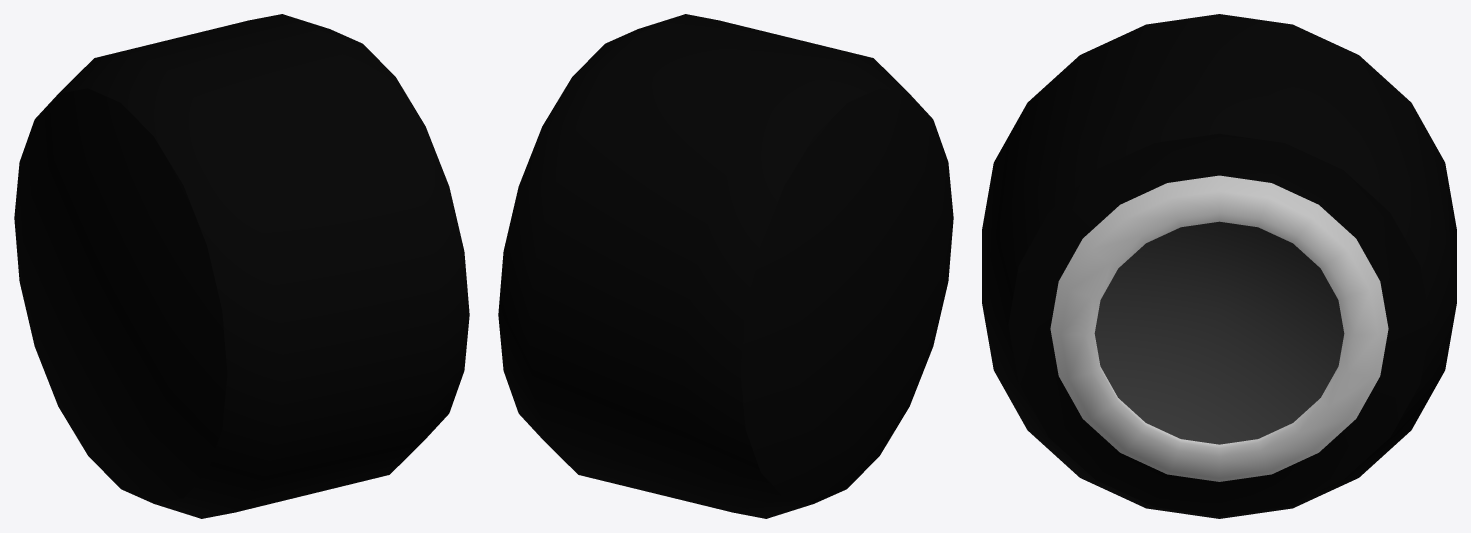
The model's file is wheel.fbx.
3 views of the same model, side by side, from view 1: azimuth 30°, elevation 25°; view 2: azimuth 150°, elevation 25°; view 3: azimuth 270°, elevation 25° (orthographic).
Parts seen in each view (by area): view 1: pasted__pCylinder14; view 2: pasted__pCylinder14; view 3: pasted__pCylinder14.
Part boxes in pixels (bbox=[...]): pasted__pCylinder14: bbox=[14, 14, 469, 518]; pasted__pCylinder14: bbox=[498, 14, 953, 518]; pasted__pCylinder14: bbox=[982, 14, 1456, 518].
Bounding box in the file's own units: 4.71 × 6.59 × 6.59.
